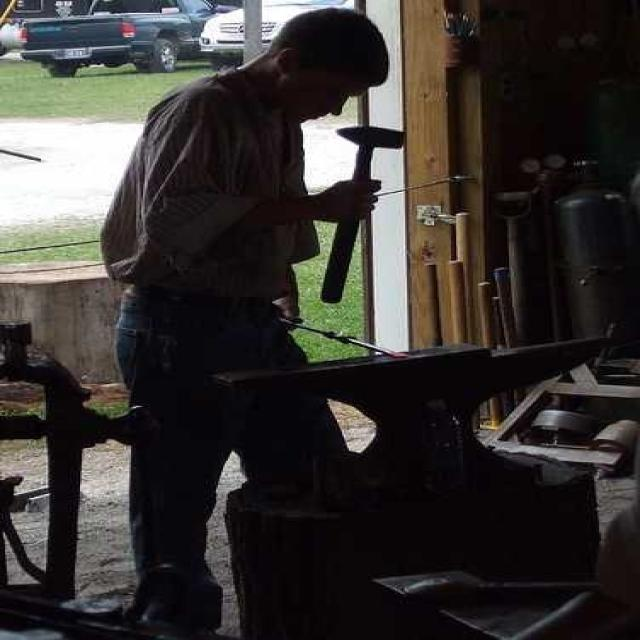hammer: (320, 126, 404, 304)
